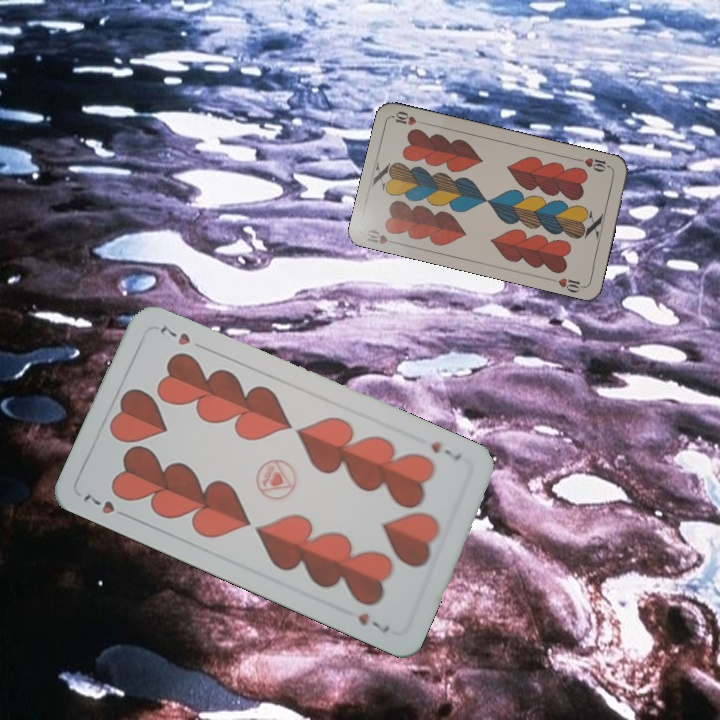H10: (363, 224, 402, 247), (574, 153, 614, 175)
H7: (79, 489, 133, 521), (427, 437, 464, 463)
